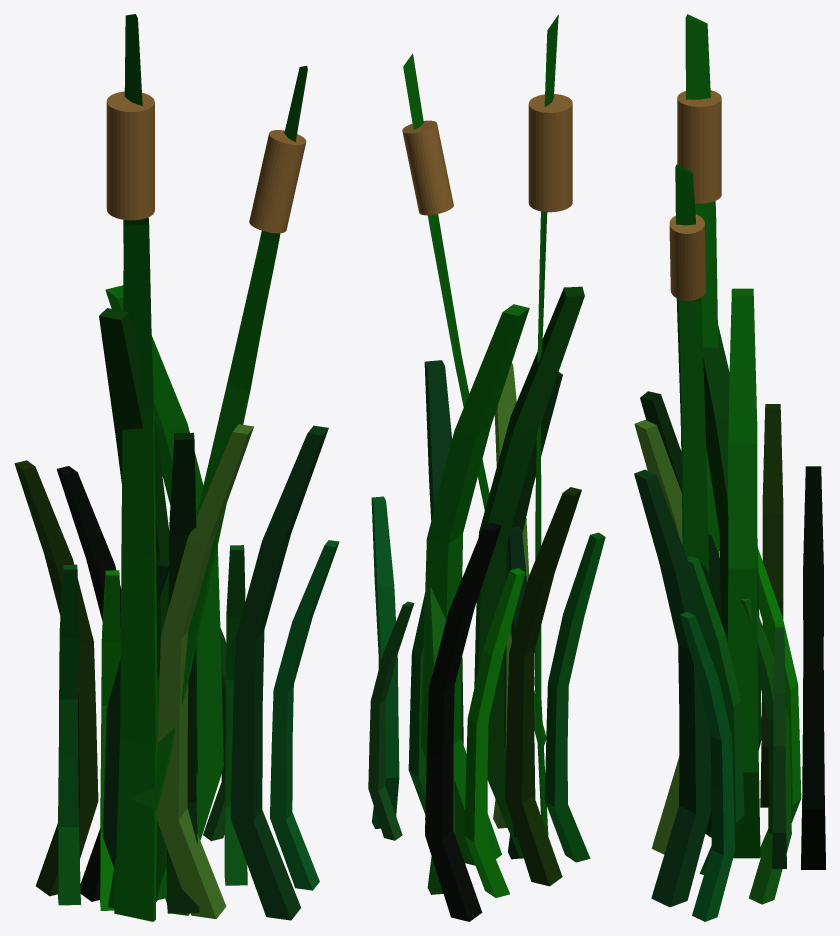
File: Grama.fbx
3 renders of one model, left to right at view 1: azimuth 30°, elevation 25°; view 2: azimuth 150°, elevation 25°; view 3: azimuth 270°, elevation 25°, orthographic. The views are drawn at different scales.
Parts seen in each view (by area): view 1: Cubo.022, Cubo.010, Cubo.009, Cubo.012, Cubo.023, Cubo.018, Cubo.015, Cubo.017, Cubo.007, Cilindro, Cubo.011, Cubo.014 (+5 smaller); view 2: Cubo.012, Cubo.007, Cubo.019, Cubo.018, Cubo.020, Cubo.017, Cilindro, Cubo.015, Cubo.013, Cubo.022, Cilindro.001, Cubo.023 (+6 smaller); view 3: Cubo.012, Cubo.010, Cubo.019, Cubo.023, Cubo.015, Cubo.007, Cubo.022, Cubo.018, Cilindro, Cubo.014, Cubo.021, Cubo.009 (+4 smaller).
Part boxes in pixels (x1,y1,x2,y2): Cubo.022: [114, 14, 157, 921]; Cubo.010: [230, 425, 328, 920]; Cubo.009: [157, 424, 253, 918]; Cubo.012: [105, 285, 223, 900]; Cubo.023: [130, 65, 307, 809]; Cubo.018: [14, 460, 98, 896]; Cubo.015: [270, 540, 339, 890]; Cubo.017: [58, 564, 80, 905]; Cubo.007: [99, 308, 169, 908]; Cilindro: [106, 91, 154, 220]; Cubo.011: [167, 432, 199, 913]; Cubo.014: [224, 545, 247, 885]; Cubo.012: [421, 304, 529, 865]; Cubo.007: [474, 286, 584, 858]; Cubo.019: [425, 522, 501, 921]; Cubo.018: [505, 487, 581, 886]; Cubo.020: [464, 568, 525, 897]; Cubo.017: [544, 532, 605, 862]; Cilindro: [528, 94, 572, 212]; Cubo.015: [371, 496, 399, 828]; Cubo.013: [368, 601, 414, 840]; Cubo.022: [534, 14, 558, 835]; Cilindro.001: [402, 120, 453, 215]; Cubo.023: [403, 53, 546, 746]; Cubo.012: [728, 288, 760, 858]; Cubo.010: [634, 469, 711, 907]; Cubo.019: [801, 466, 825, 869]; Cubo.023: [675, 164, 709, 572]; Cubo.015: [680, 612, 734, 921]; Cubo.007: [703, 324, 761, 836]; Cubo.022: [685, 14, 719, 556]; Cubo.018: [760, 404, 783, 807]; Cilindro: [677, 90, 721, 203]; Cubo.014: [687, 556, 744, 874]; Cubo.021: [740, 599, 791, 904]; Cubo.009: [634, 419, 682, 854].
Size of the model in its own units: 14.53 by 48.18 by 9.9.
